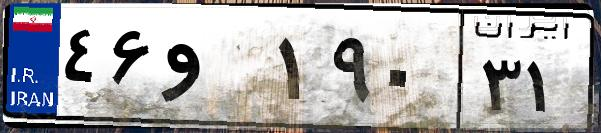0: (385, 28, 445, 110)
1: (270, 28, 330, 110), (525, 38, 570, 115)
3: (475, 38, 525, 113)
4: (57, 26, 110, 100)
6: (110, 28, 158, 98)
9: (330, 28, 385, 110)
و: (158, 20, 270, 120)
